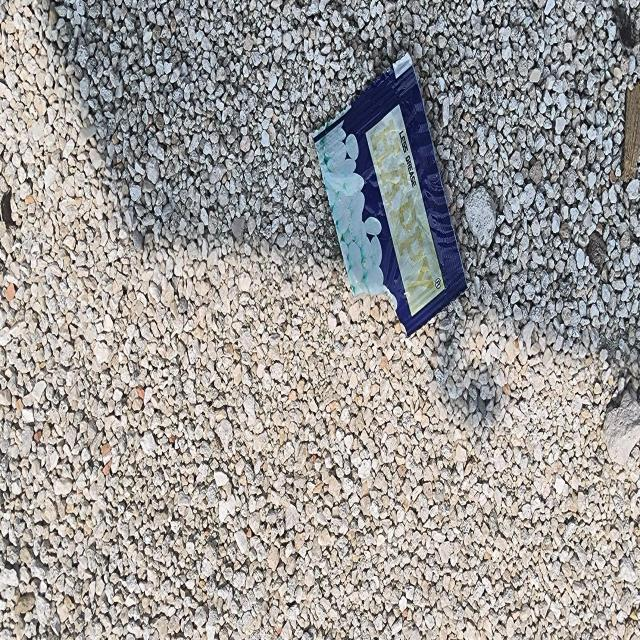plastic_waste: (314, 50, 470, 340)
